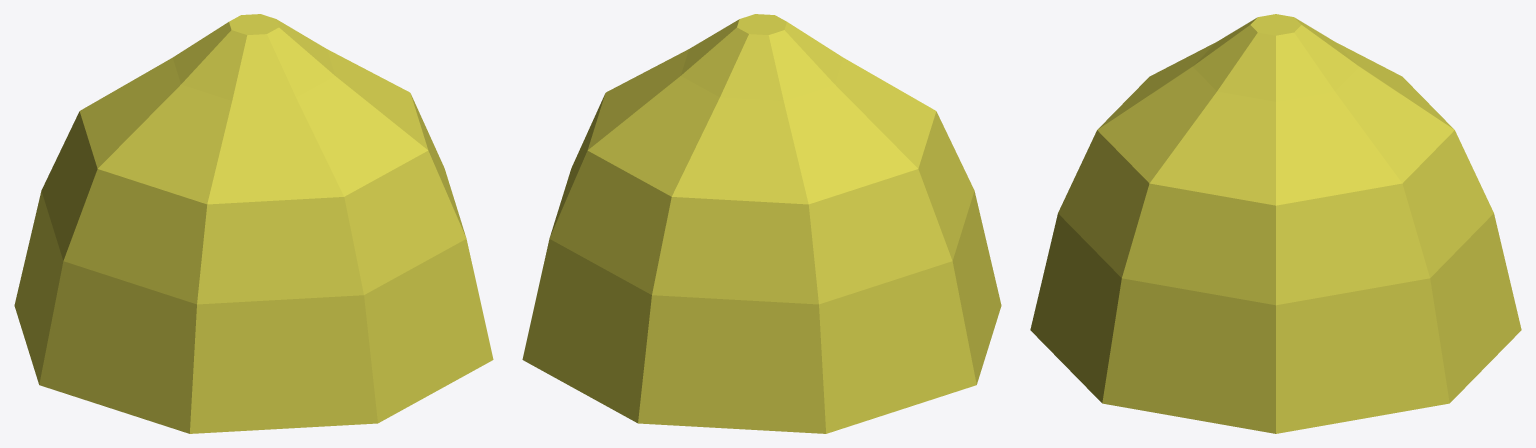
Rendered from paille-2.fbx.
3 renders of one model, left to right at view 1: azimuth 30°, elevation 25°; view 2: azimuth 150°, elevation 25°; view 3: azimuth 270°, elevation 25°, orthographic.
Parts seen in each view (by area): view 1: Botte de pailles; view 2: Botte de pailles; view 3: Botte de pailles.
Part boxes in pixels (x1=…): Botte de pailles: x1=14, y1=14, x2=493, y2=433; Botte de pailles: x1=522, y1=14, x2=1001, y2=433; Botte de pailles: x1=1030, y1=14, x2=1521, y2=433.
Size of the model in its own units: 329 by 225 by 329.
